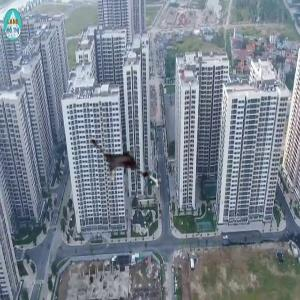drone: (77, 119, 168, 210)
